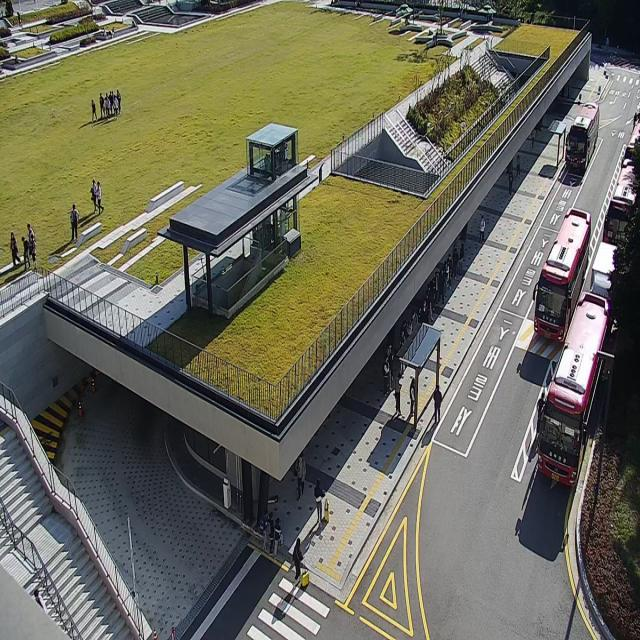queue: (414, 240, 466, 431)
